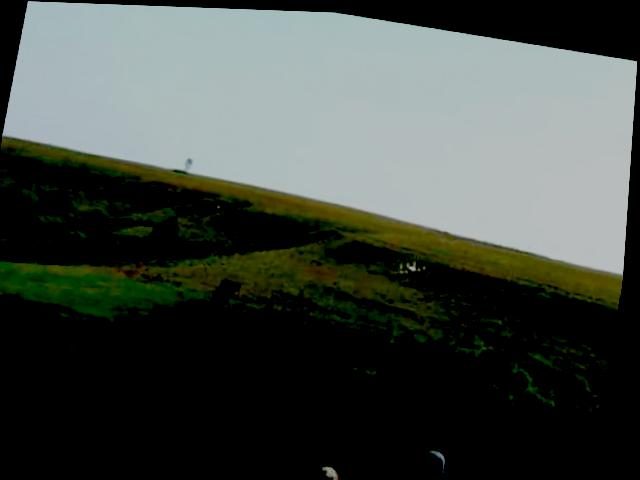iha: (391, 250, 432, 277)
